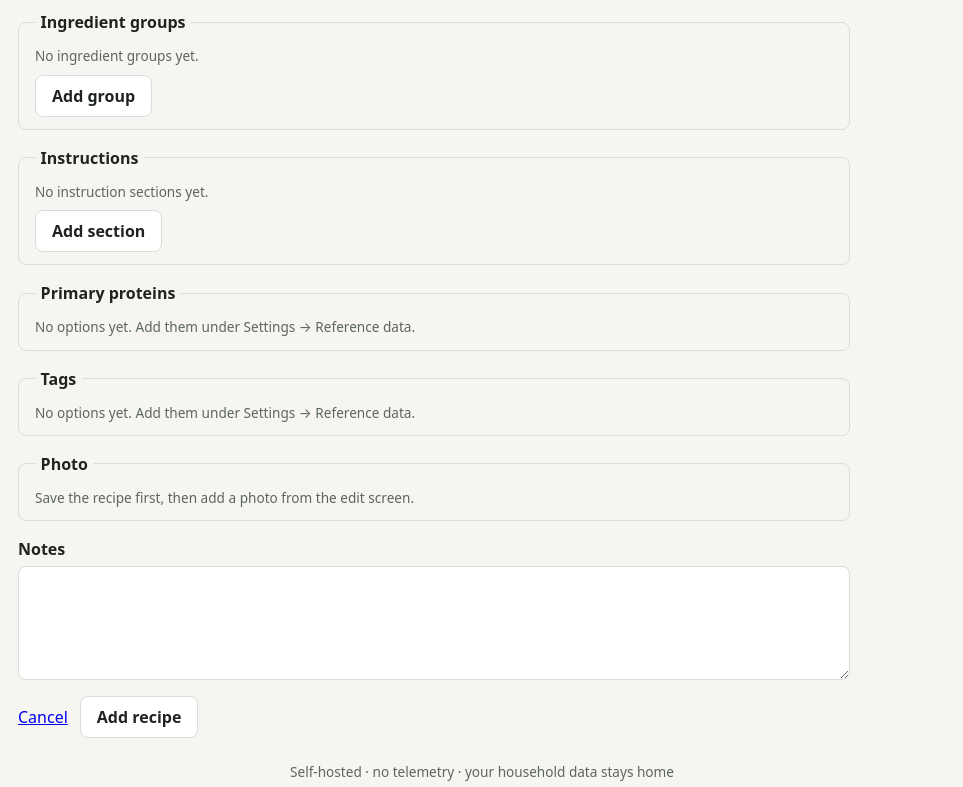
Test: recipe form › reports validation problems before contacting the server
(page scrolled)
Click the button "Add recipe" at (139, 717), box 80,696 -> 198,738
(page scrolled)
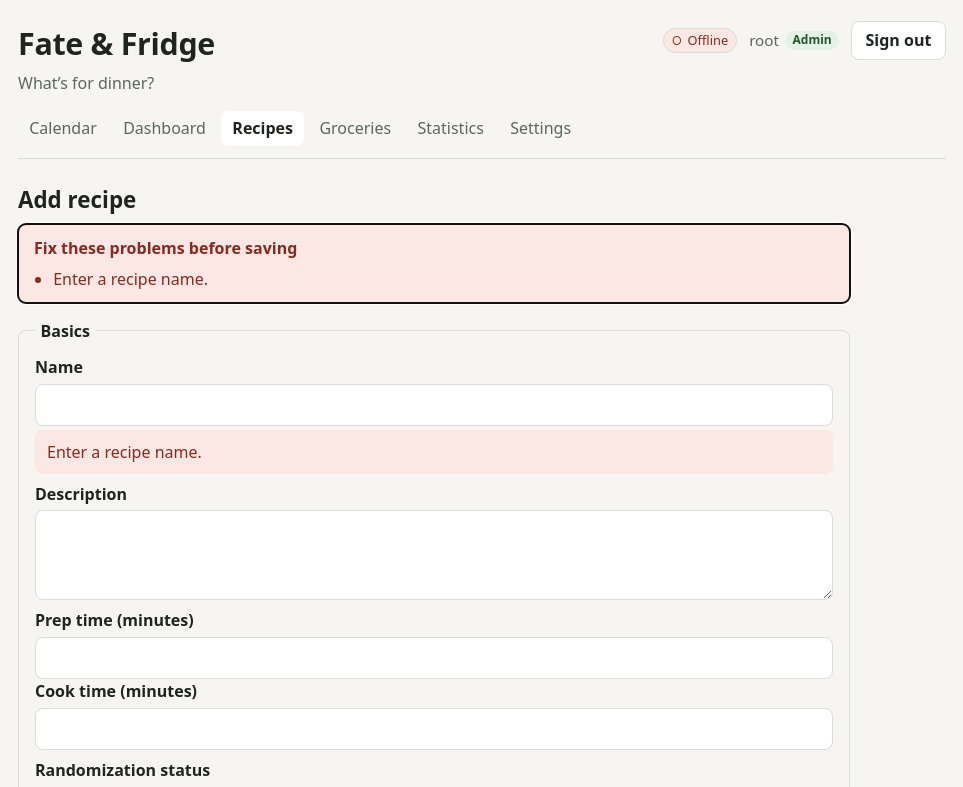
Now the heading "Fix these problems before saving" is shown, box 34,237 -> 297,259
Now the list item "Enter a recipe name." is shown, box 53,268 -> 208,290
